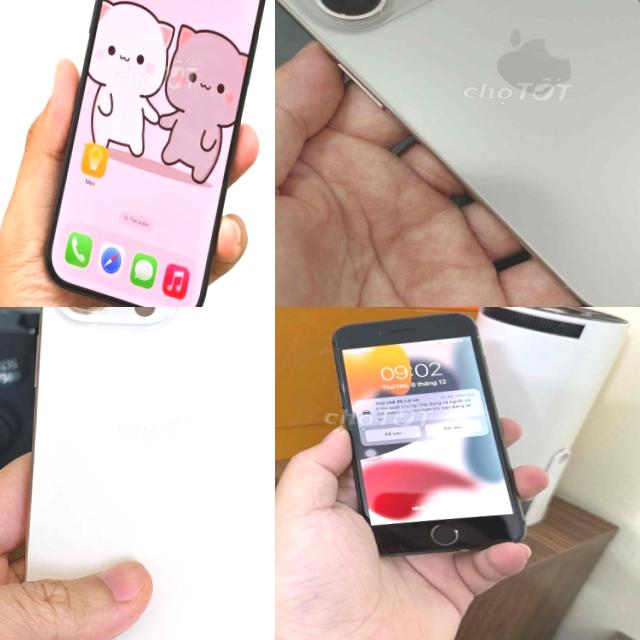gen_12_13: (324, 308, 534, 560)
gen_15: (275, 0, 640, 307), (40, 0, 275, 307)
gen_16: (24, 307, 275, 640)
scratch: (387, 540, 409, 552), (386, 316, 407, 328), (451, 526, 461, 536)
